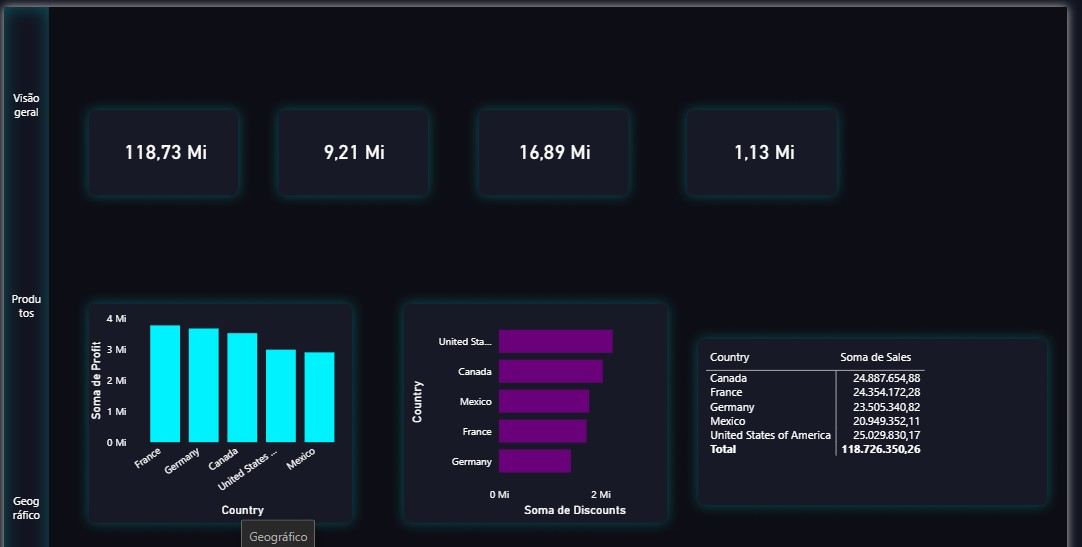

The page's visual inventory and layout, read from the dashboard file:
{"tool":"powerbi","page":{"name":"Geográfico","canvas":[1280,720],"ordinal":2},"visuals":[{"type":"card","fields":{"Values":["Sum(financials.Sales)"]},"box":[97,121.3,194.1,104.2],"z":0},{"type":"card","fields":{"Values":["Sum(financials.Discounts)"]},"box":[335.3,127,174.1,94.2],"z":1000},{"type":"card","fields":{"Values":["Sum(financials.Profit)"]},"box":[570.8,121.3,184.1,104.2],"z":2000},{"type":"card","fields":{"Values":["Sum(financials.Units Sold)"]},"box":[817.7,117,195.5,114.2],"z":3000},{"type":"pageNavigator","box":[0,0,54.2,720.6],"z":7000},{"type":"clusteredColumnChart","fields":{"Category":["financials.Country"],"Y":["Sum(financials.Profit)"]},"box":[97,361,325.4,256.9],"z":7001},{"type":"clusteredBarChart","fields":{"Category":["financials.Country"],"Y":["Sum(financials.Discounts)"]},"box":[483.7,361,312.5,256.9],"z":7002},{"type":"pivotTable","fields":{"Rows":["financials.Country"],"Values":["Sum(financials.Sales)"]},"box":[840.5,406.8,413.9,211.2],"z":7003}]}

Visuals, with their boxes on the page's 1280x720 design canvas (x1, y1, x2, y2). These are canvas units, not pixel positions in the 1082x547 screenshot, which may show the page scaled, cropped or inside an application window:
card - Sum(financials.Sales): <region>97, 121, 291, 226</region>
card - Sum(financials.Discounts): <region>335, 127, 509, 221</region>
card - Sum(financials.Profit): <region>571, 121, 755, 226</region>
card - Sum(financials.Units Sold): <region>818, 117, 1013, 231</region>
pageNavigator: <region>0, 0, 54, 721</region>
clusteredColumnChart - financials.Country x Sum(financials.Profit): <region>97, 361, 422, 618</region>
clusteredBarChart - financials.Country x Sum(financials.Discounts): <region>484, 361, 796, 618</region>
pivotTable - financials.Country x Sum(financials.Sales): <region>840, 407, 1254, 618</region>
